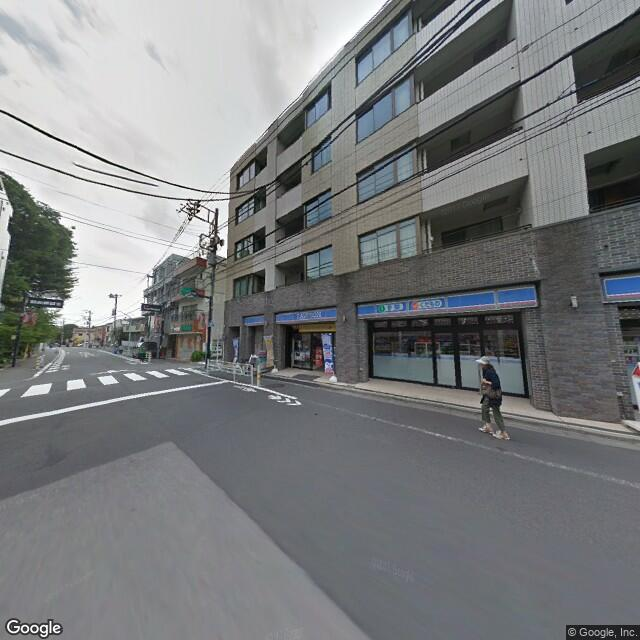lawson: (271, 282, 539, 330)
